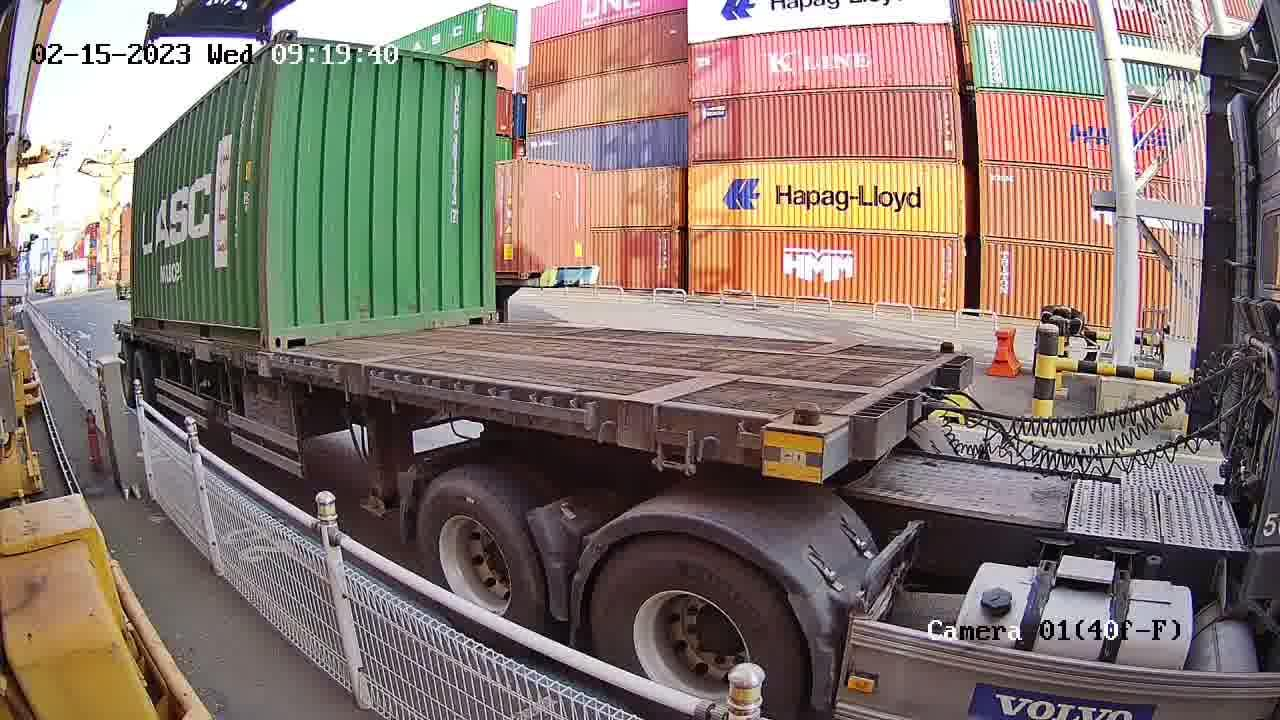Chassis: (852, 357, 967, 466)
Cone: (763, 404, 848, 482), (933, 340, 964, 361)
Hole_L: (268, 310, 316, 352)
Hole_R: (462, 293, 500, 326), (236, 317, 270, 353)
Tire: (584, 547, 797, 713), (410, 483, 544, 630)
